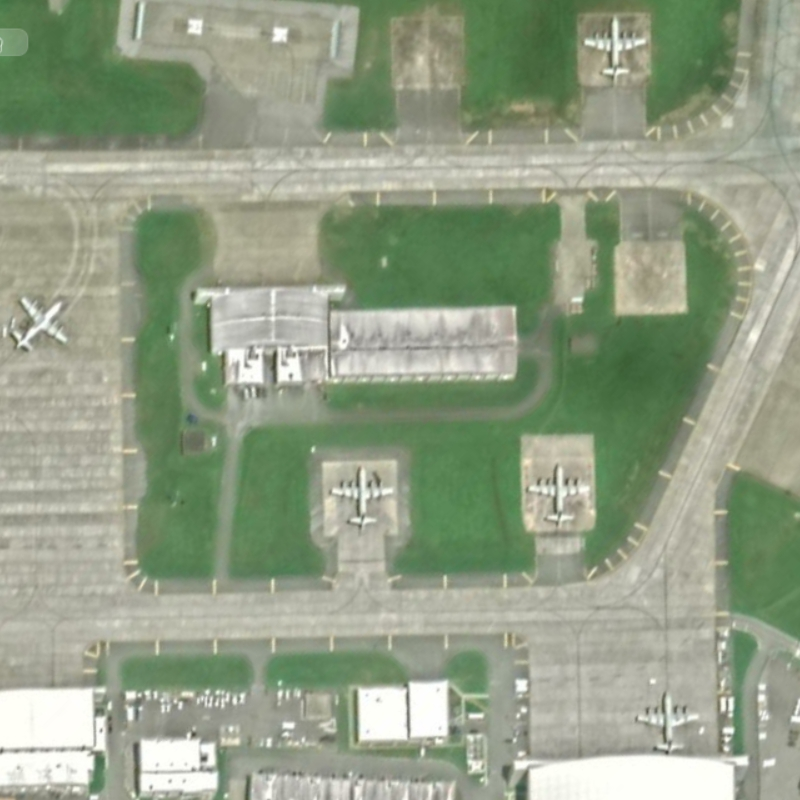A9: (578, 12, 658, 92), (520, 455, 594, 538), (326, 459, 399, 539), (4, 287, 77, 359), (632, 686, 704, 759)
